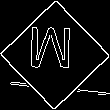M_S: (32, 29, 78, 81)
